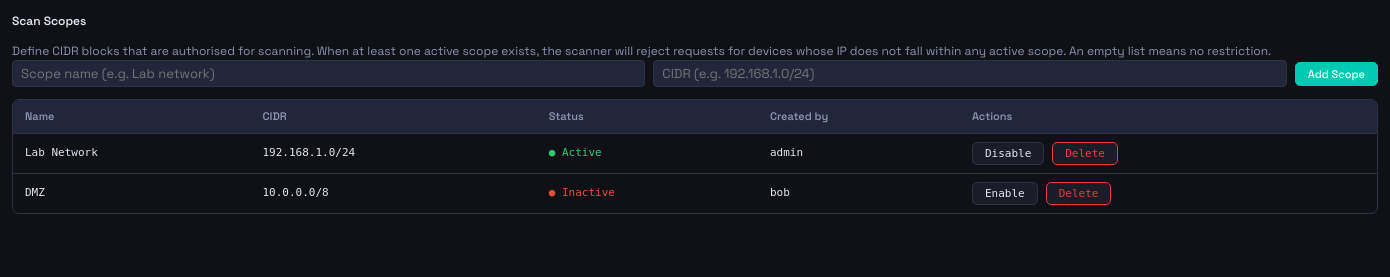
Test: ScanScopesTab › shows validation error when name is blank
Click the button "Add Scope": (1336, 74) [1295,62,1378,86]
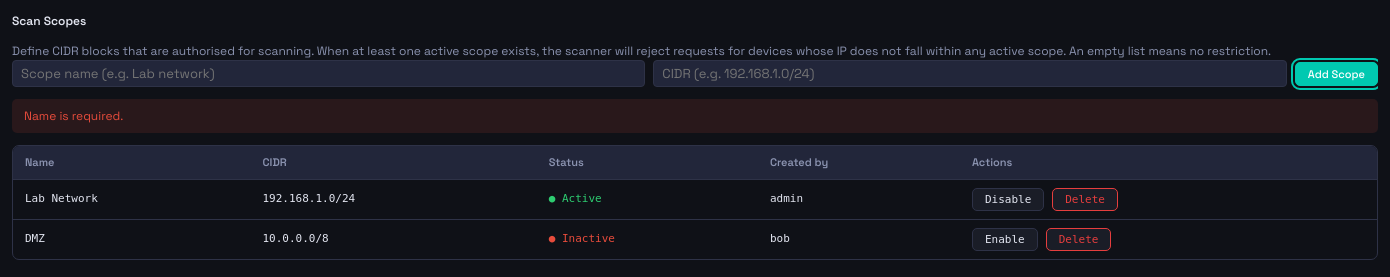
Result: the message shows "Name is required" at [24,108,123,124]
